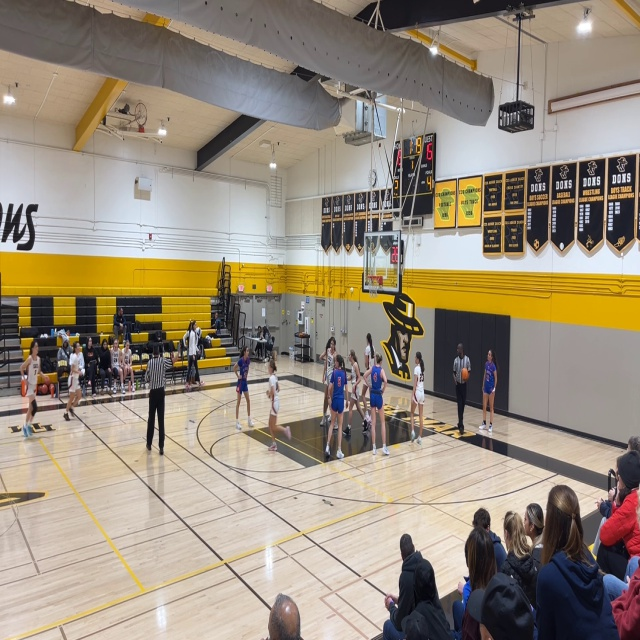Basketball: (460, 368, 469, 380)
